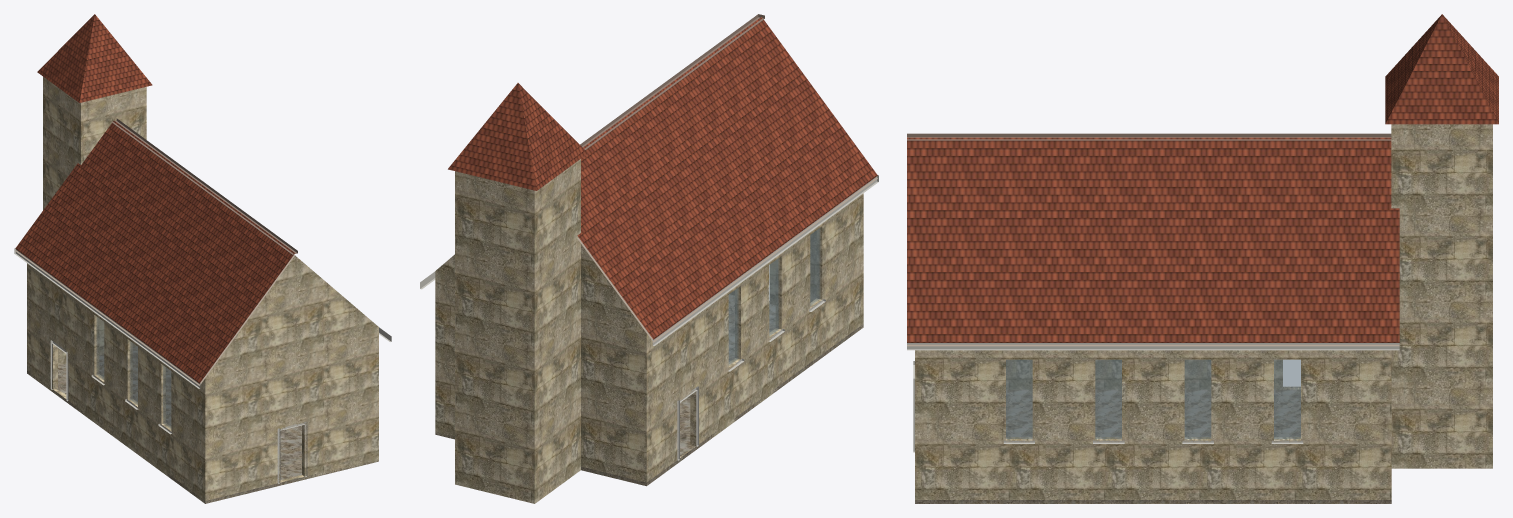
File: village-chapel.loc-v1.lod1.glb
The picture shows the model from 3 angles, left to right: view 1: azimuth 30°, elevation 25°; view 2: azimuth 150°, elevation 25°; view 3: azimuth 270°, elevation 25°; orthographic projection. The views are drawn at different scales.
Visible parts, largest first — view 1: village-chapel; view 2: village-chapel; view 3: village-chapel.
Part boxes in pixels (bbox=[...]): village-chapel: bbox=[14, 14, 391, 503]; village-chapel: bbox=[420, 14, 878, 503]; village-chapel: bbox=[907, 14, 1498, 503].
Bounding box in the file's own units: 9.98 × 16.05 × 19.87.
6 materials, 4 textured.
